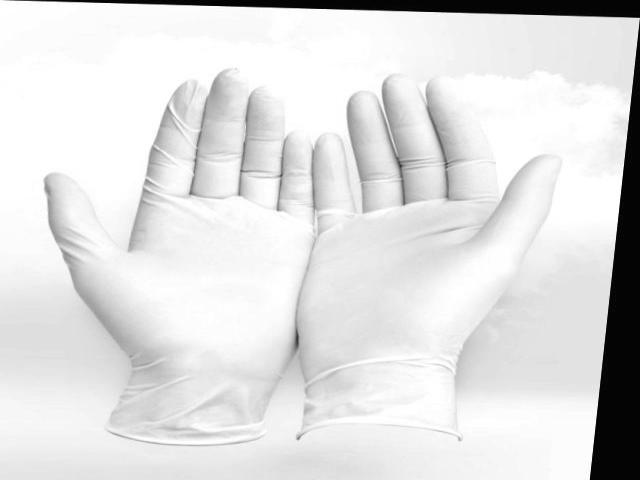gloved: (307, 63, 566, 391), (42, 68, 306, 388)
